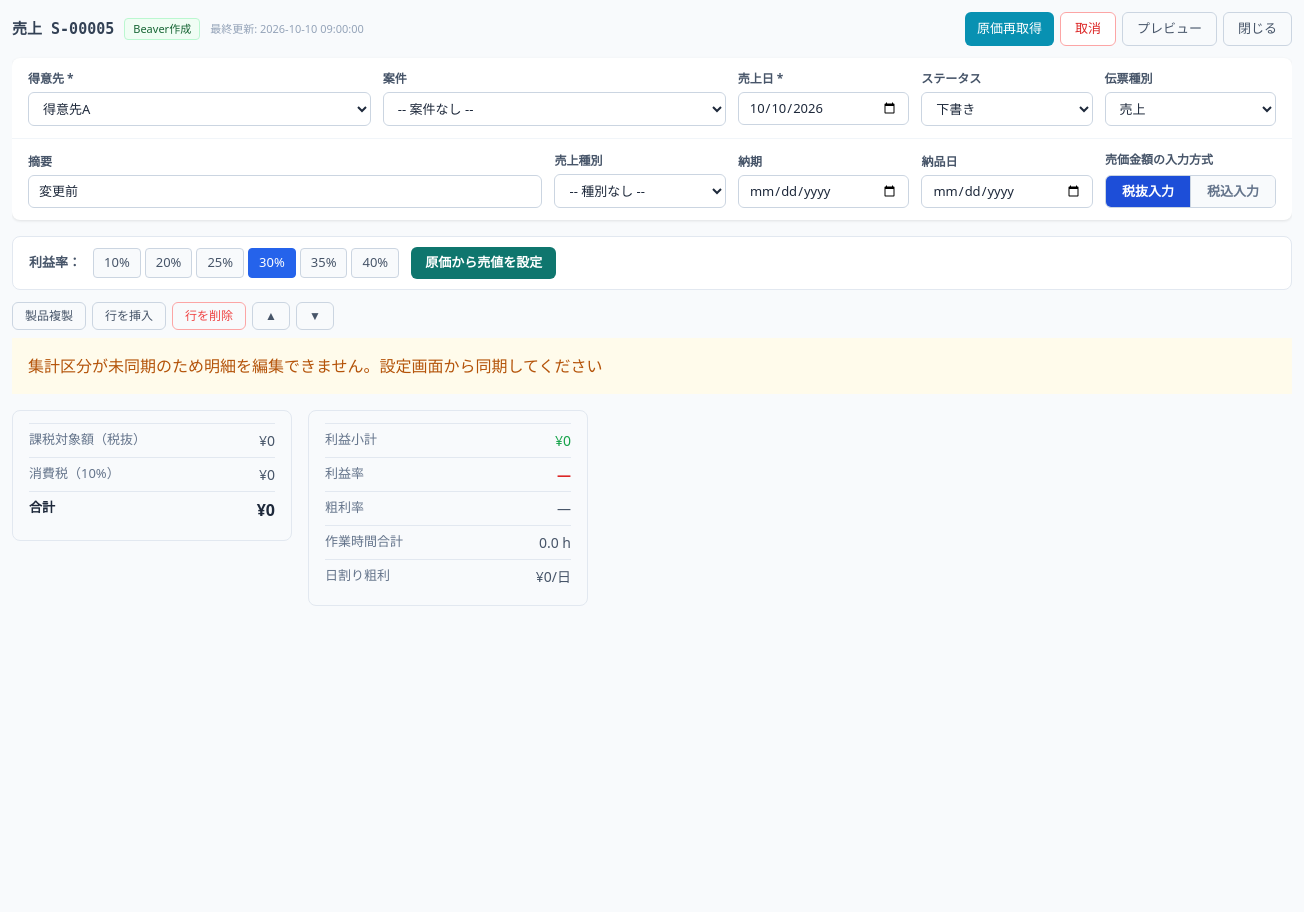
Test: R-0168 離脱前に保存結果を待つ › stale_voucherでは生のAPIエラーを表示しない
Expected: the date field showing "2026-10-10" below "売上日 *" is shown, [738,92,909,125]
Replace the text in the field named "description" with "入力中の摘要" at (285, 191), box [28,174,542,208]
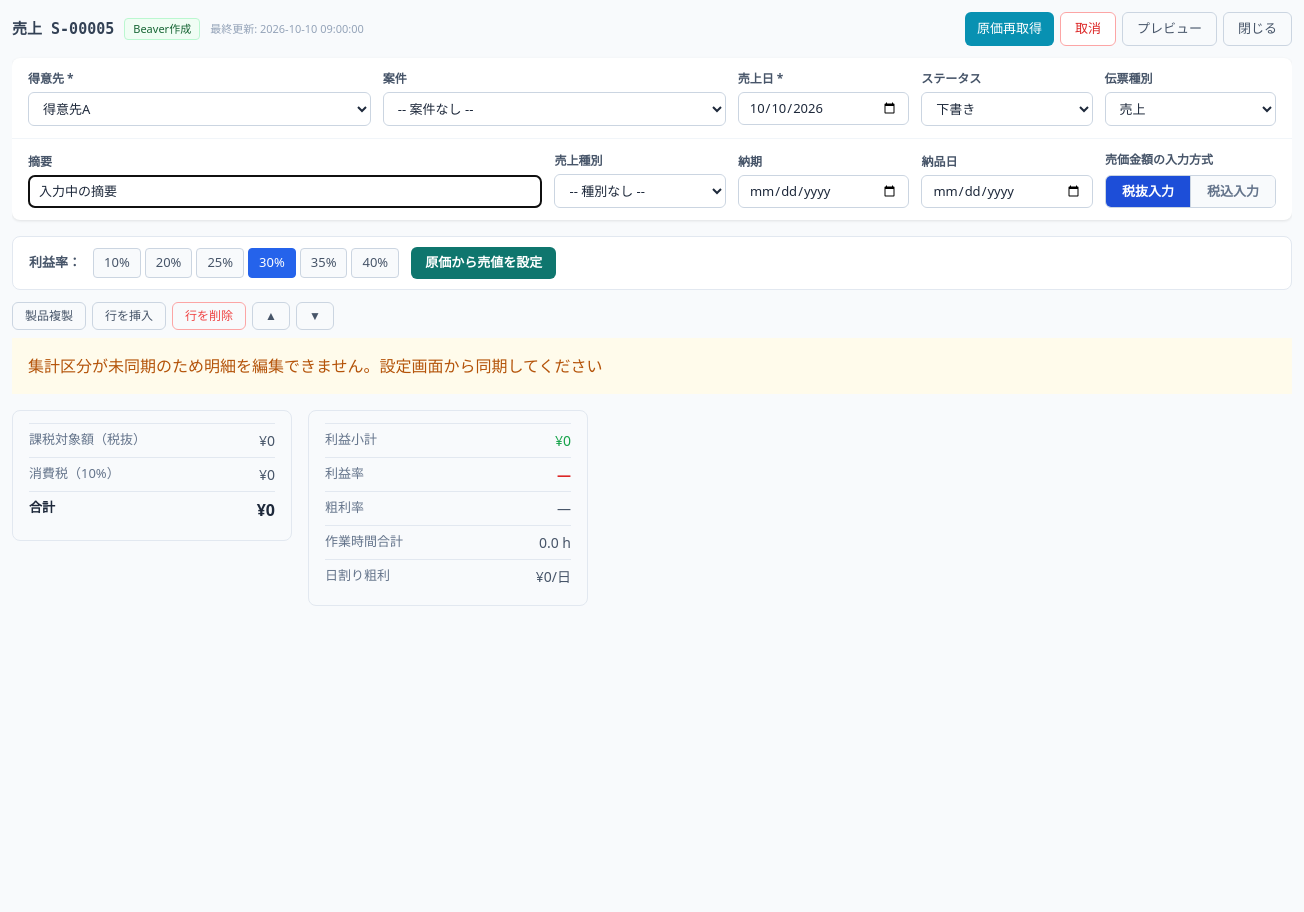
Click the button "閉じる" at (1258, 29), box [1223,12,1292,46]
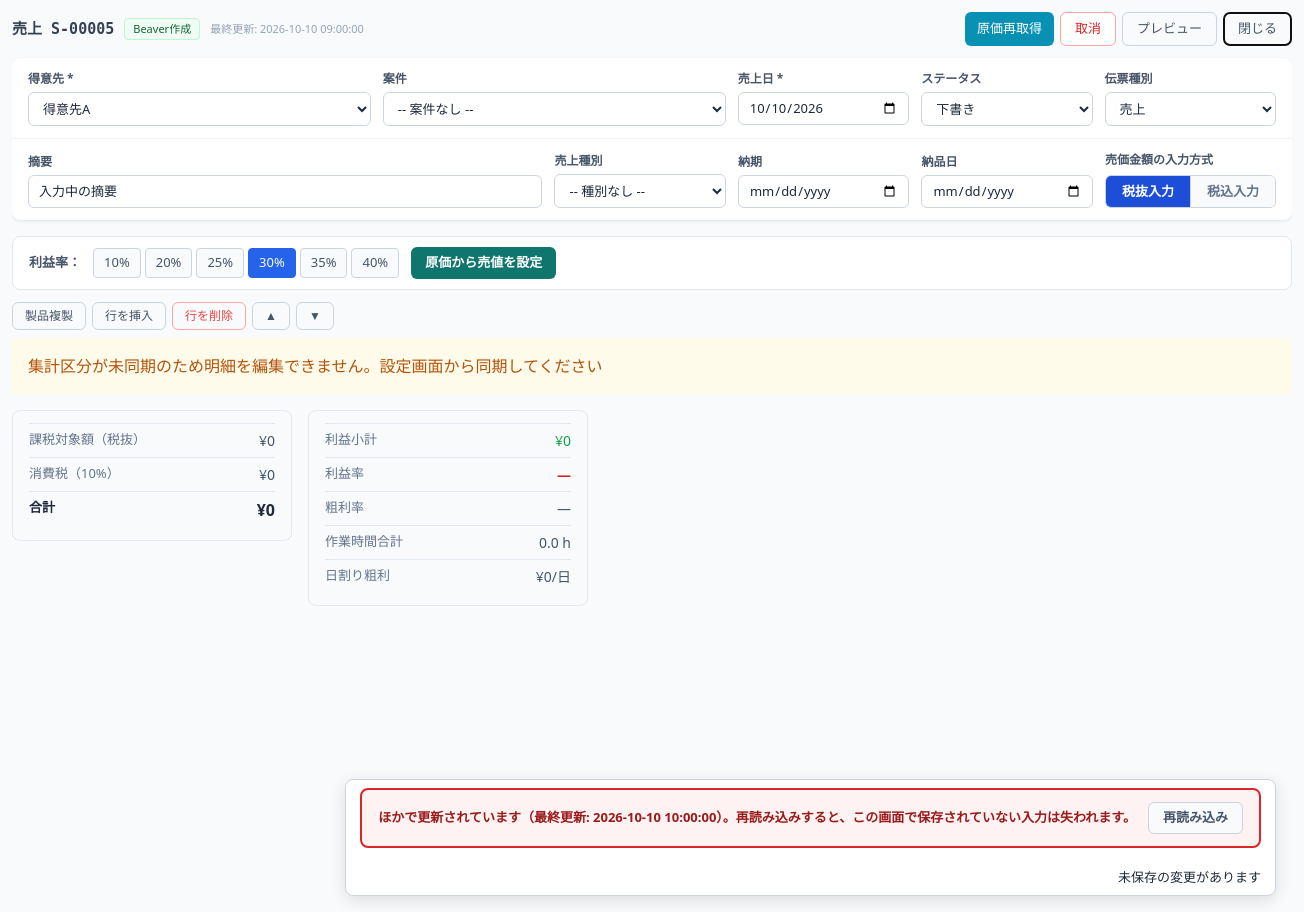
Result: the text "ほかで更新されています" is shown at [378,808,593,826]
